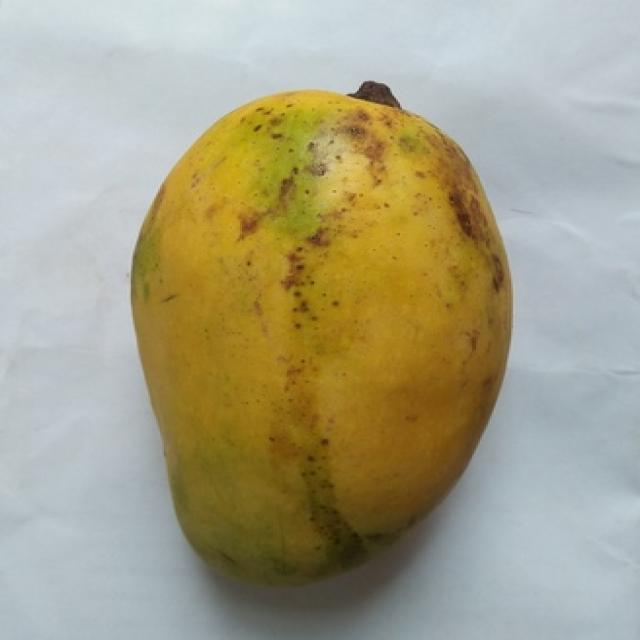Mango: (133, 91, 509, 579)
